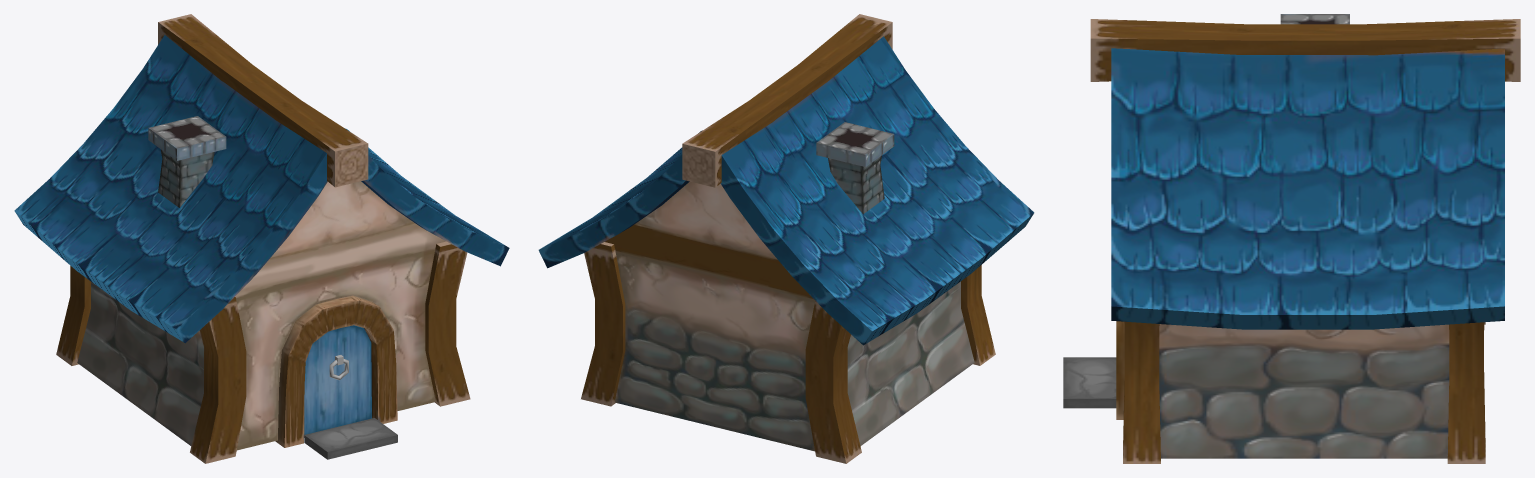
The model's file is House.fbx.
3 renders of one model, left to right at view 1: azimuth 30°, elevation 25°; view 2: azimuth 150°, elevation 25°; view 3: azimuth 270°, elevation 25°, orthographic. The views are drawn at different scales.
Visible parts, largest first — view 1: House; view 2: House; view 3: House.
Part boxes in pixels (<box>): House: <box>14,14,509,463</box>; House: <box>538,14,1034,463</box>; House: <box>1063,14,1520,463</box>.
Size of the model in its own units: 6000 by 5082 by 5866.
